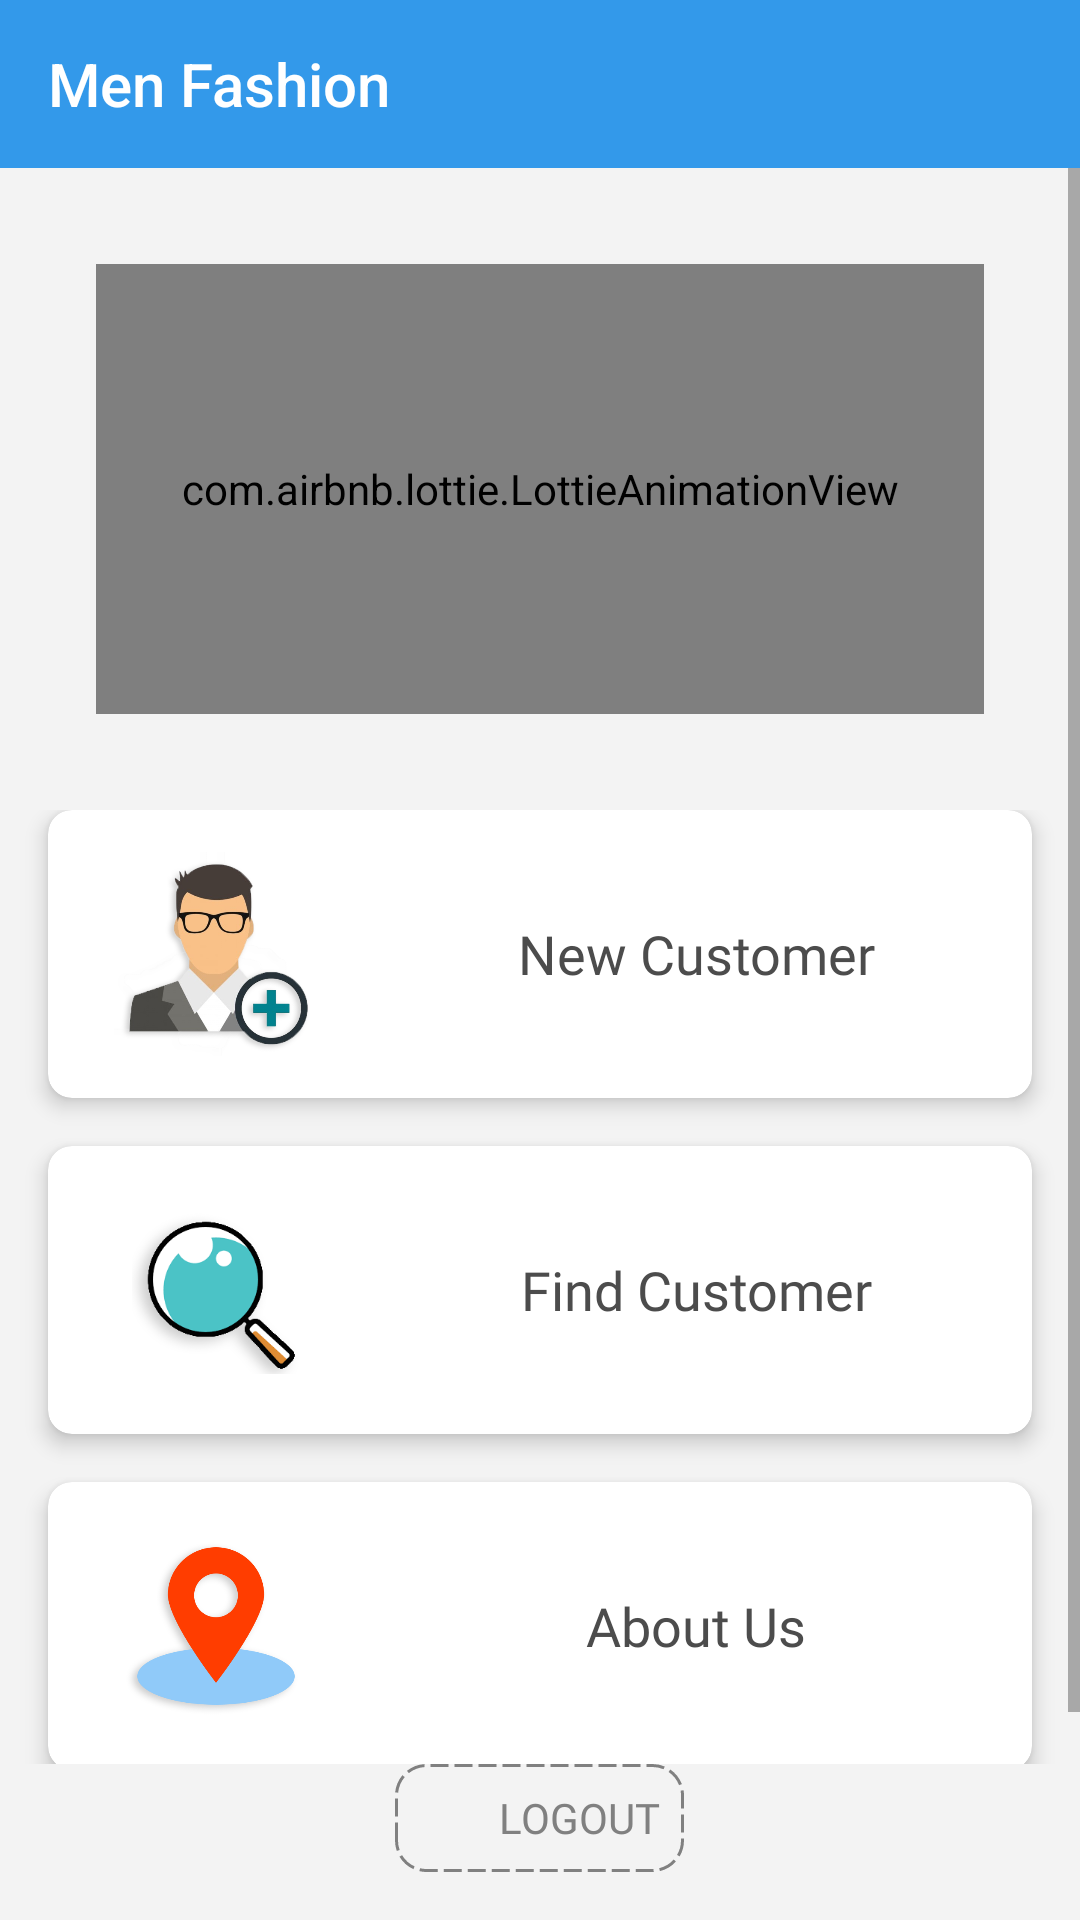

Icons on this 1080 x 1920 Android screen, each with the point to tap as (x=x, y=y):
add coustomer: (x=217, y=955)
loaction: (x=214, y=1627)
search: (x=217, y=1296)
